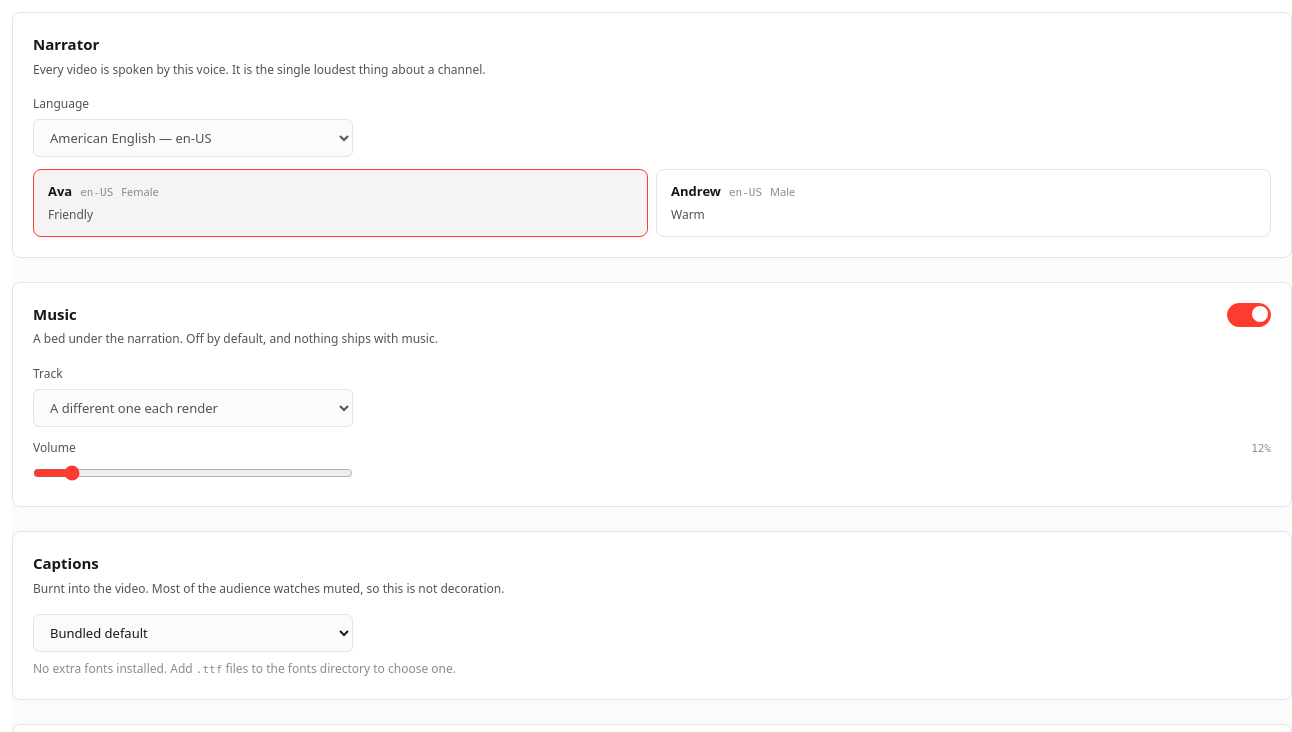
Test case: a save that does not land › re-enables the controls when the Server Action itself rejects
Click the radio button labelled "Andrew en-US Male Warm".
click(696, 191)  # box [656,169,1271,236]
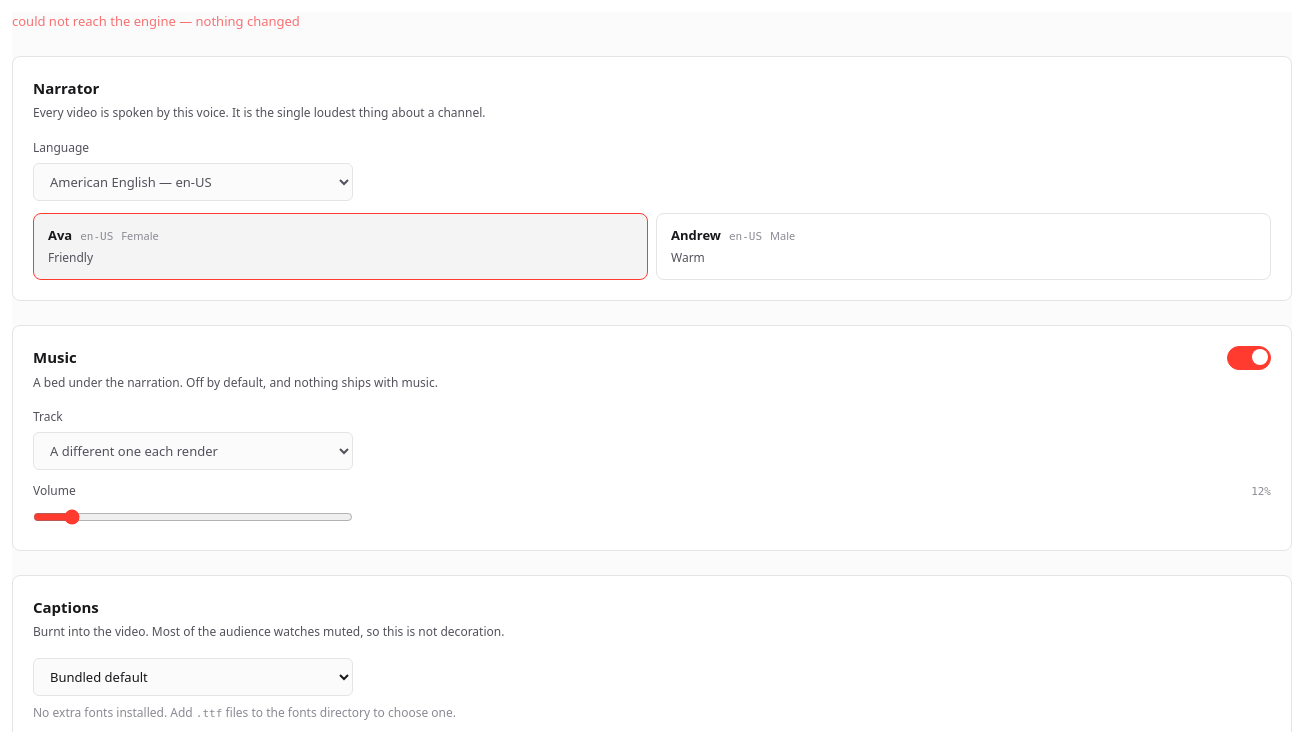
Check: the radio button labelled "Andrew en-US Male Warm" is enabled, box [656,212,1271,280]
Check: the message shows "could not reach the engine", box [12,12,300,30]
